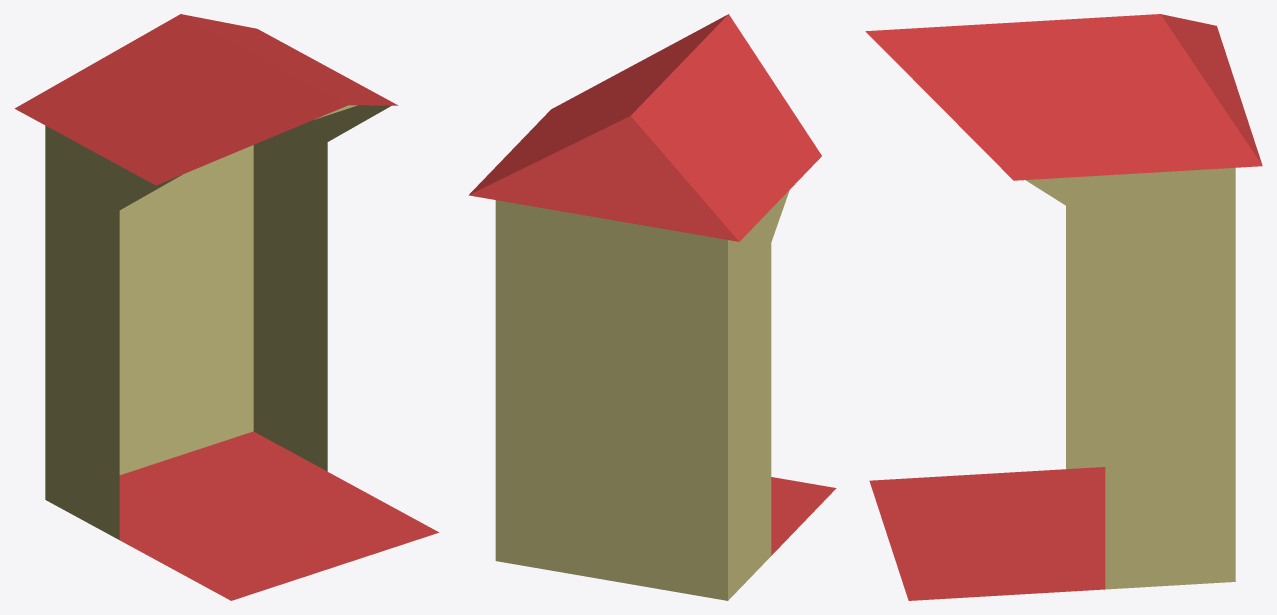
3 renders of one model, left to right at view 1: azimuth 30°, elevation 25°; view 2: azimuth 150°, elevation 25°; view 3: azimuth 270°, elevation 25°, orthographic. The views are drawn at different scales.
Size of the model in its own units: 7.65 by 8.3 by 11.76.
